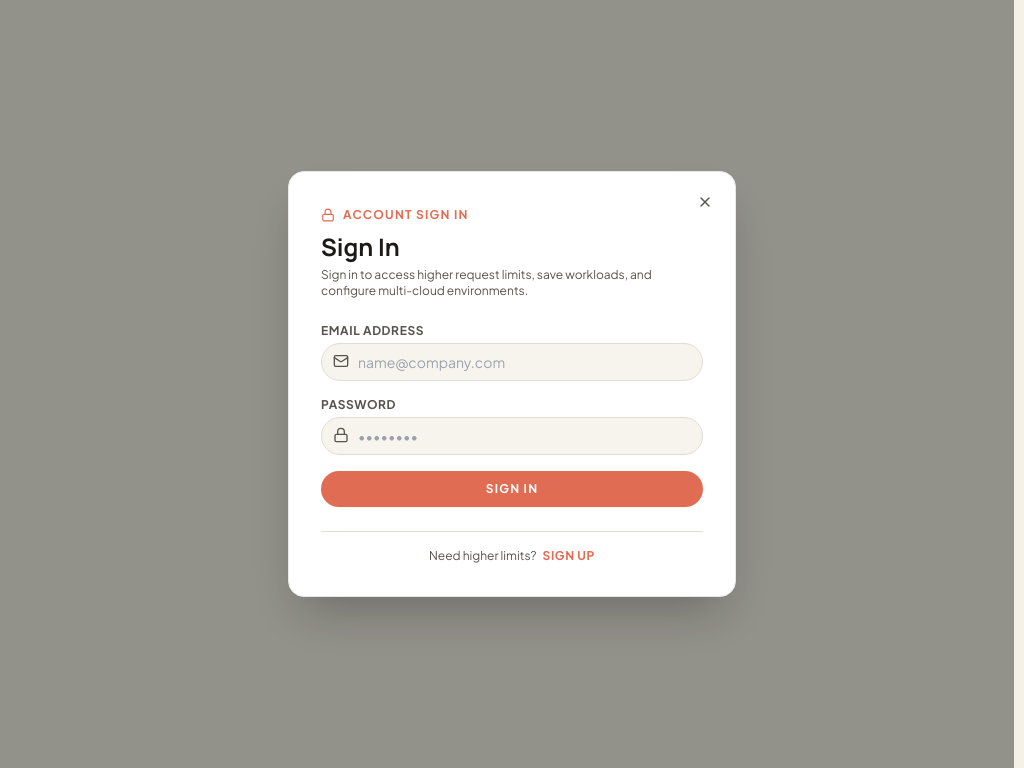
Test: AuthModal Component › displays API error banner when login returns 401
Type "wrong@company.com" into the field with placeholder "name@company.com" at coordinates (512, 362), box x1=321 y1=343 x2=703 y2=381
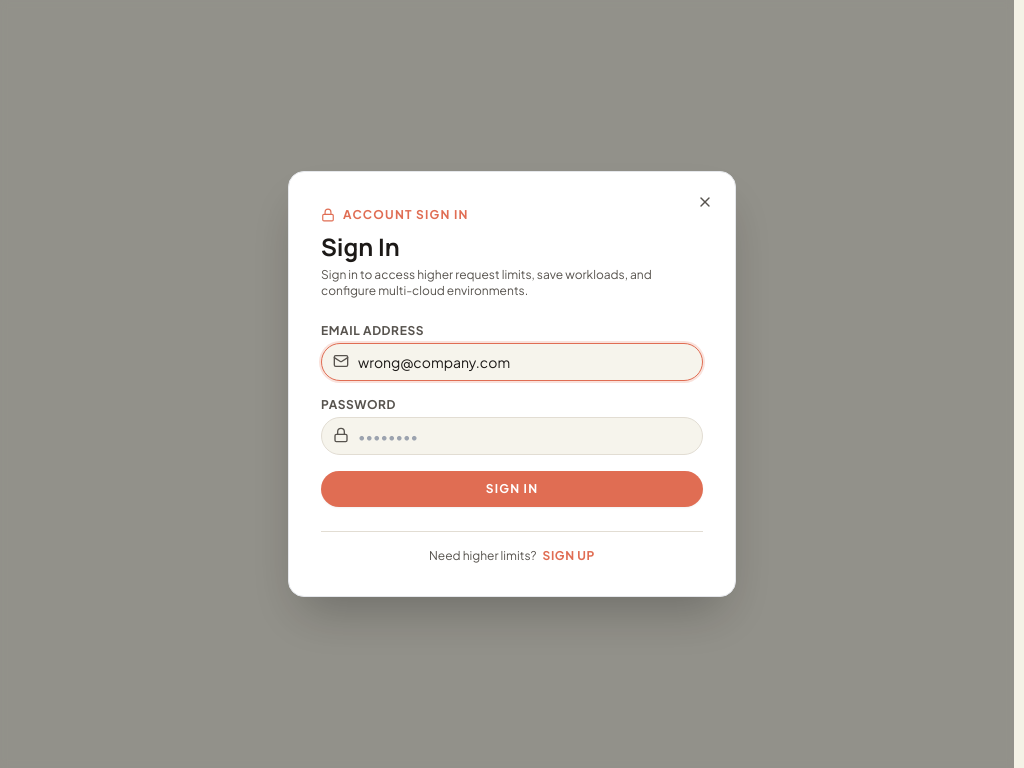
Type "wrongpassword" into the password field with placeholder "••••••••" at coordinates (512, 436), box x1=321 y1=417 x2=703 y2=455
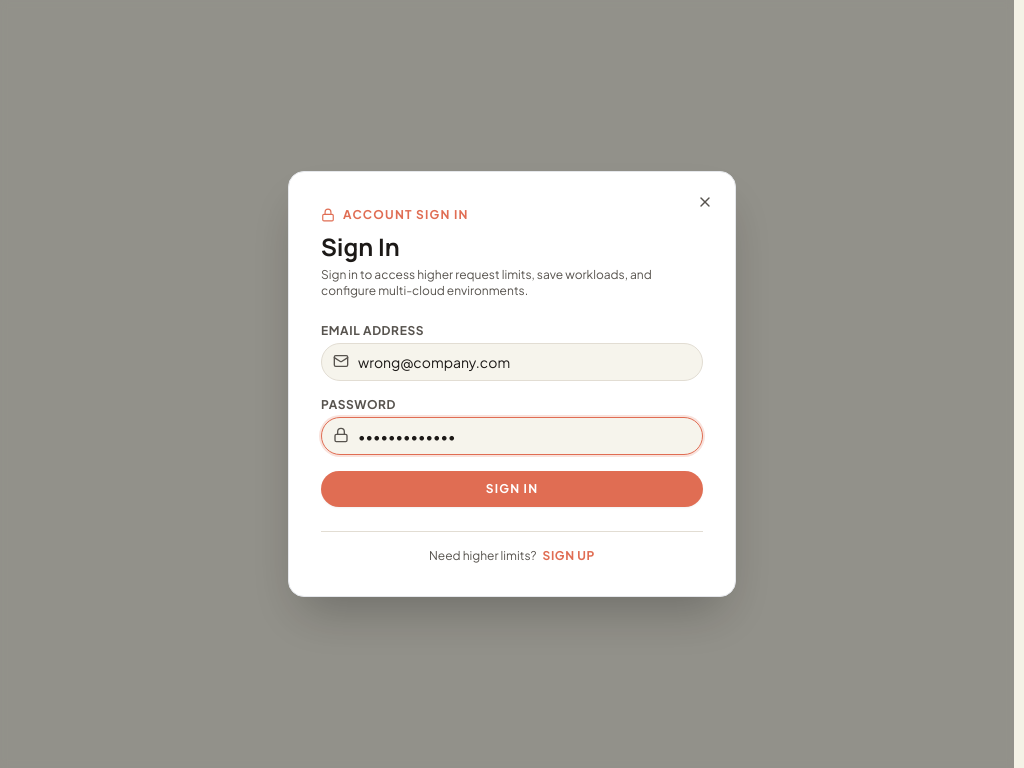
Click the button "Sign In" at coordinates (512, 489), box x1=321 y1=471 x2=703 y2=507
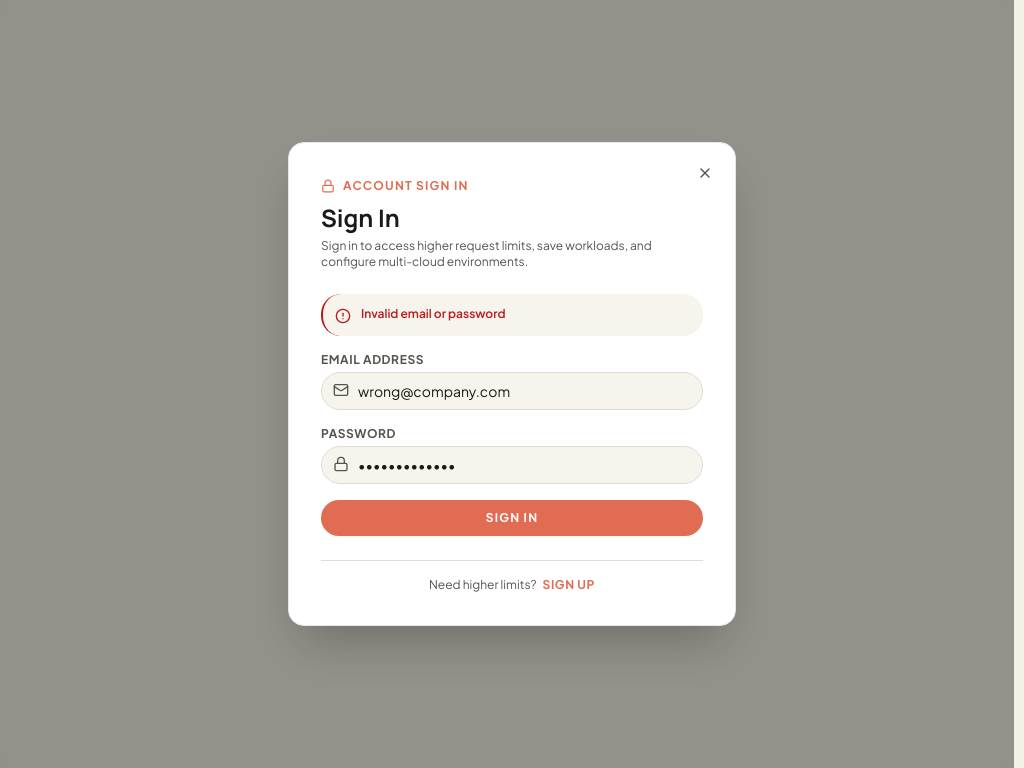
Now the text "Invalid email or password" is shown, box x1=361 y1=306 x2=506 y2=321
